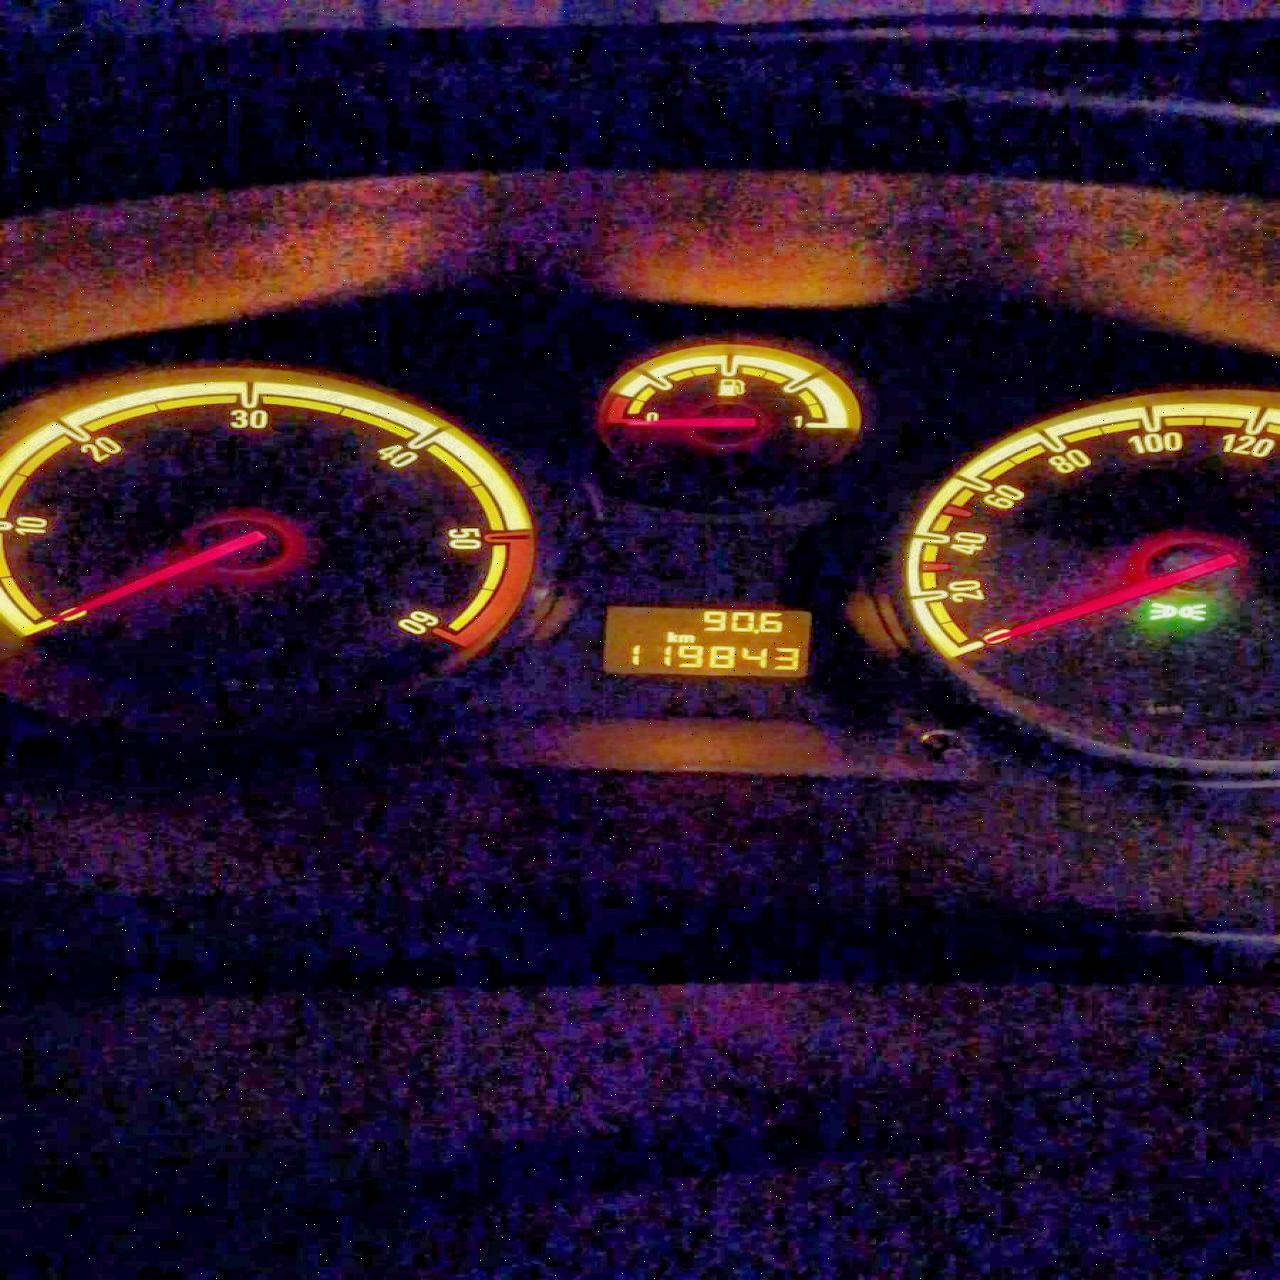-: (753, 628, 760, 633)
0: (729, 611, 754, 631)
1: (661, 645, 673, 666), (629, 644, 640, 665)
3: (772, 647, 798, 669)
4: (740, 646, 767, 668)
6: (758, 612, 782, 632)
8: (707, 646, 735, 668)
9: (675, 645, 702, 667), (701, 611, 726, 632)
X: (675, 633, 694, 642), (663, 631, 678, 642)
odometer: (598, 602, 813, 679)
